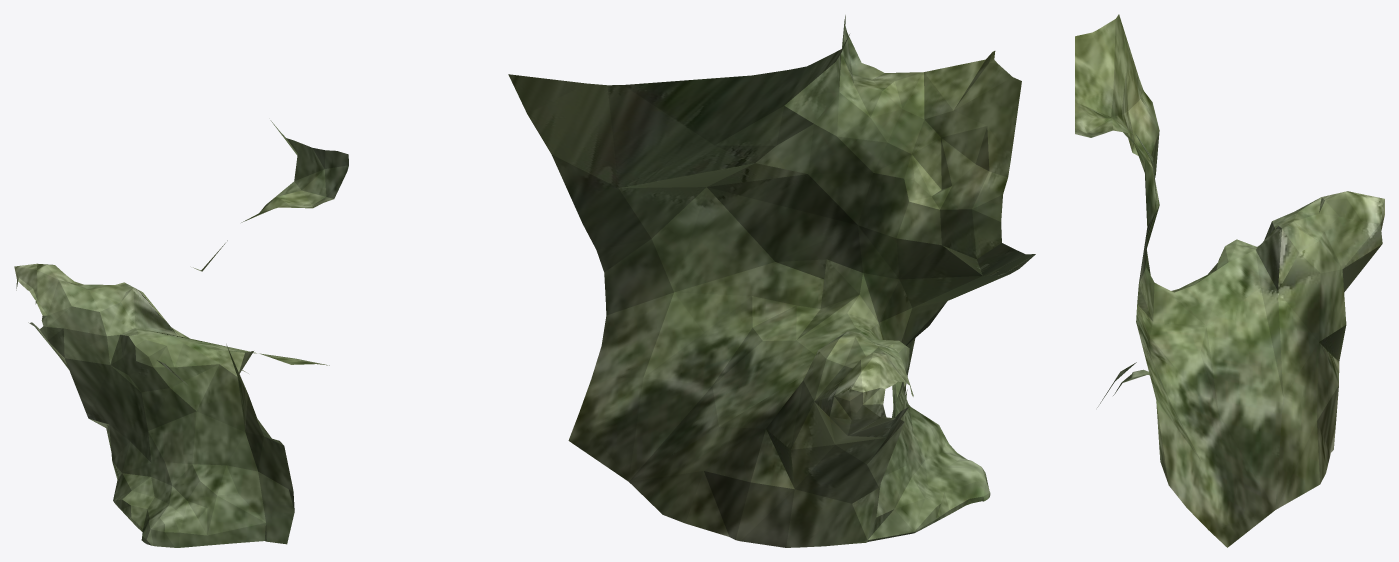
3 renders of one model, left to right at view 1: azimuth 30°, elevation 25°; view 2: azimuth 150°, elevation 25°; view 3: azimuth 270°, elevation 25°, orthographic. The views are drawn at different scales.
Size of the model in its own units: 2.95 by 2.95 by 2.27.
4 materials, 4 textured.
